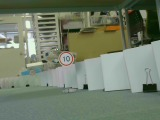speed_10: (58, 50, 75, 66)
